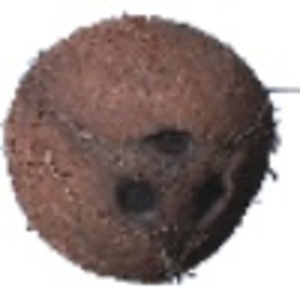coco: (4, 14, 300, 284)
